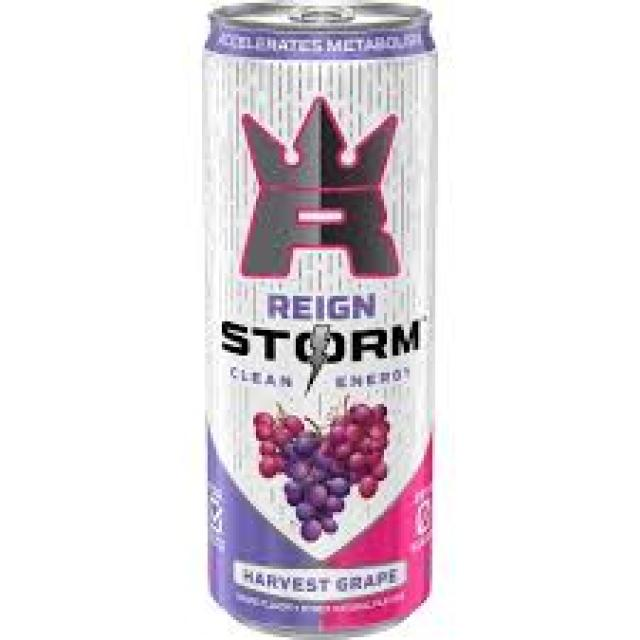Cans: (182, 3, 449, 634)
